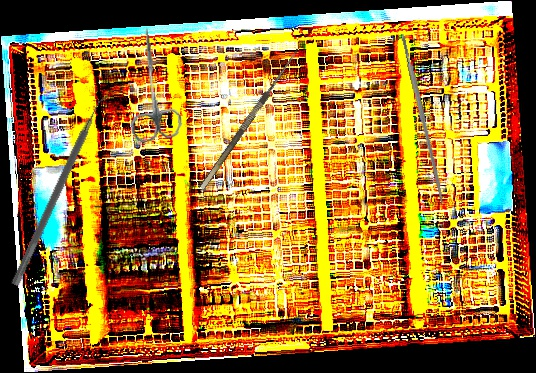Hook Surgical: (191, 42, 302, 191)
Iris Scissors: (118, 24, 185, 144)
Scalpel Handle: (399, 31, 447, 206)
Spatula Surgical: (10, 89, 114, 291)
